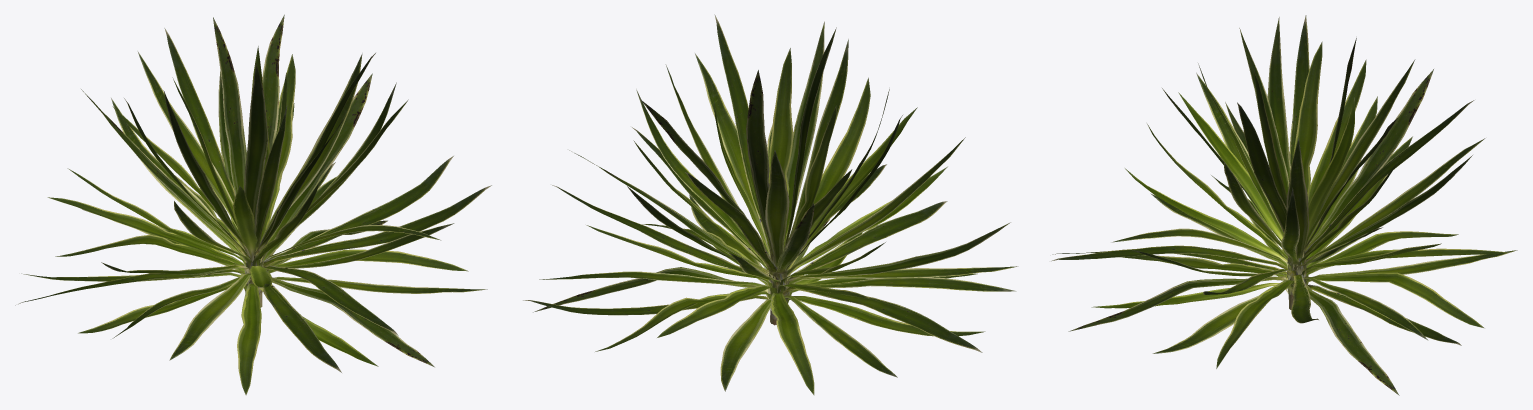
The model's file is background_plant_3.glb.
3 renders of one model, left to right at view 1: azimuth 30°, elevation 25°; view 2: azimuth 150°, elevation 25°; view 3: azimuth 270°, elevation 25°, orthographic. The views are drawn at different scales.
Parts seen in each view (by area): view 1: _jh4s_Var12_LOD1; view 2: _jh4s_Var12_LOD1; view 3: _jh4s_Var12_LOD1.
Part boxes in pixels (<box>): _jh4s_Var12_LOD1: <box>15,14,491,395</box>; _jh4s_Var12_LOD1: <box>523,14,1018,395</box>; _jh4s_Var12_LOD1: <box>1051,15,1517,395</box>.
Size of the model in its own units: 12.04 by 7.25 by 11.55.
1 material, 1 textured.
